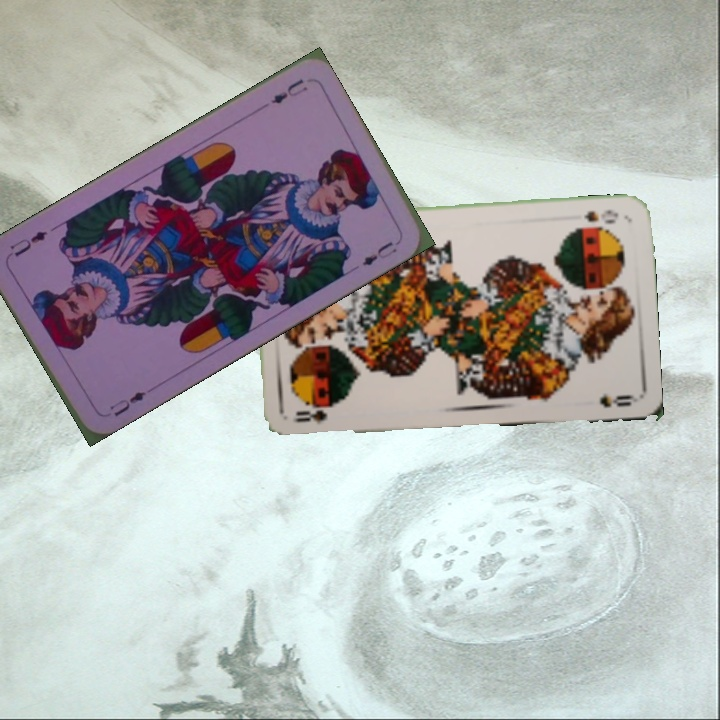EU: (266, 75, 310, 107), (105, 387, 148, 419)
SO: (570, 205, 621, 230), (289, 402, 339, 427)
